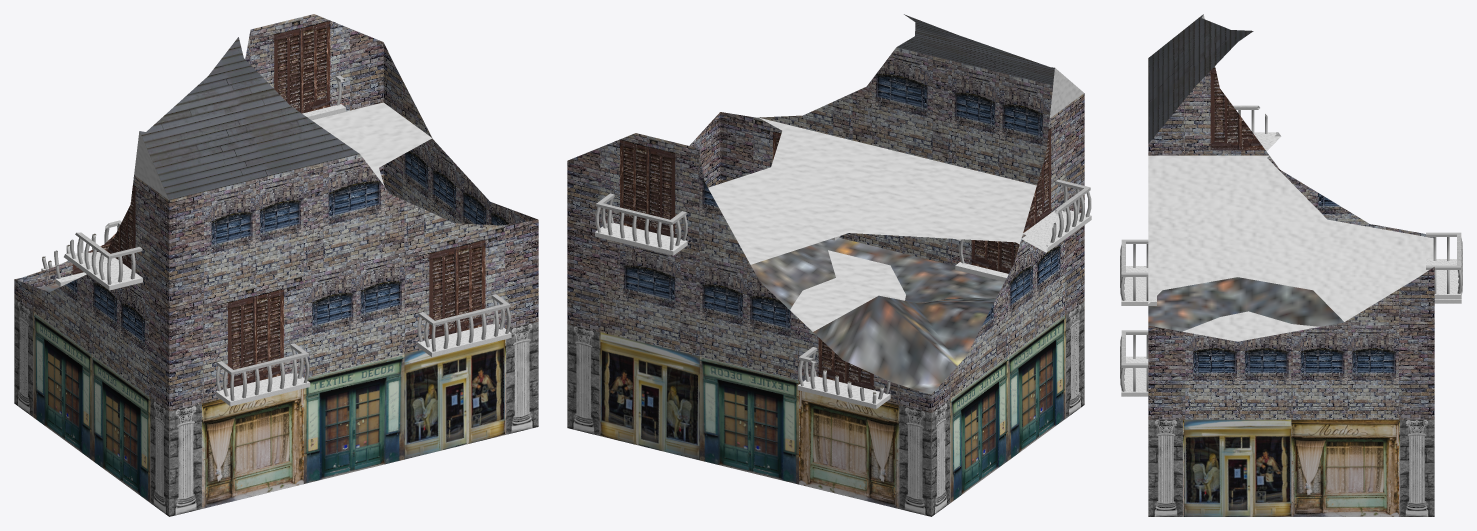
Rendered from House_005_destroyed_001.dae.
3 views of the same model, side by side, from view 1: azimuth 30°, elevation 25°; view 2: azimuth 150°, elevation 25°; view 3: azimuth 270°, elevation 25° (orthographic). The views are drawn at different scales.
Parts seen in each view (by area): view 1: House_005; view 2: House_005; view 3: House_005.
Boxes of the visible parts, left/top/right/bottom form: House_005: left=14, top=14, right=538, bottom=516; House_005: left=567, top=14, right=1091, bottom=516; House_005: left=1120, top=14, right=1462, bottom=516.
Bounding box in the file's own units: 96.27 × 76.54 × 92.79.
1 material, 1 textured.
